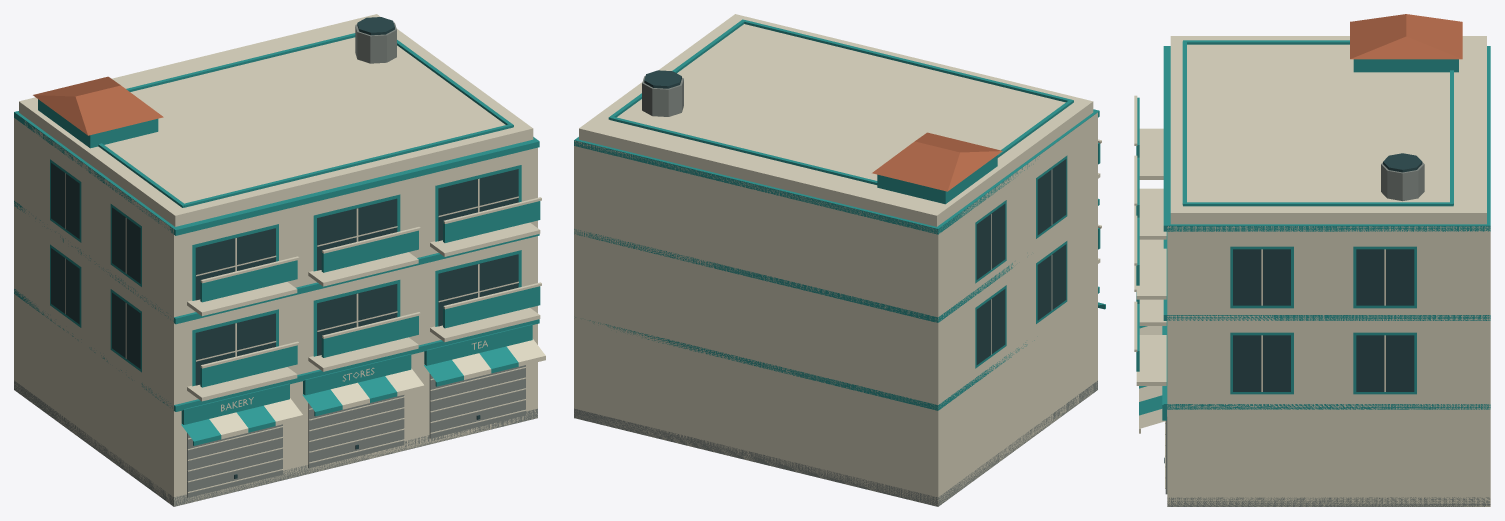
Rendered from KeralaShopRow_A.glb.
3 views of the same model, side by side, from view 1: azimuth 30°, elevation 25°; view 2: azimuth 150°, elevation 25°; view 3: azimuth 270°, elevation 25° (orthographic).
Visible parts, largest first — view 1: KeralaShopRow_A_Warm_Lime_Plaster, KeralaShopRow_A_Kerala_Teal_Trim, KeralaShopRow_A_Deep_Window_Glass, KeralaShopRow_A_Stone_And_Metal, KeralaShopRow_A_Terracotta_Roof; view 2: KeralaShopRow_A_Warm_Lime_Plaster, KeralaShopRow_A_Kerala_Teal_Trim, KeralaShopRow_A_Deep_Window_Glass, KeralaShopRow_A_Stone_And_Metal, KeralaShopRow_A_Terracotta_Roof; view 3: KeralaShopRow_A_Warm_Lime_Plaster, KeralaShopRow_A_Kerala_Teal_Trim, KeralaShopRow_A_Deep_Window_Glass, KeralaShopRow_A_Terracotta_Roof, KeralaShopRow_A_Stone_And_Metal.
Part boxes in pixels (x1=…): KeralaShopRow_A_Warm_Lime_Plaster: x1=14, y1=14, x2=545, y2=505; KeralaShopRow_A_Kerala_Teal_Trim: x1=14, y1=33, x2=540, y2=445; KeralaShopRow_A_Deep_Window_Glass: x1=51, y1=17, x2=518, y2=478; KeralaShopRow_A_Stone_And_Metal: x1=14, y1=22, x2=537, y2=506; KeralaShopRow_A_Terracotta_Roof: x1=33, y1=76, x2=163, y2=135; KeralaShopRow_A_Warm_Lime_Plaster: x1=574, y1=14, x2=1101, y2=505; KeralaShopRow_A_Kerala_Teal_Trim: x1=574, y1=19, x2=1105, y2=410; KeralaShopRow_A_Deep_Window_Glass: x1=644, y1=70, x2=1066, y2=364; KeralaShopRow_A_Stone_And_Metal: x1=574, y1=76, x2=1097, y2=506; KeralaShopRow_A_Terracotta_Roof: x1=872, y1=132, x2=1002, y2=191; KeralaShopRow_A_Warm_Lime_Plaster: x1=1134, y1=36, x2=1490, y2=506; KeralaShopRow_A_Kerala_Teal_Trim: x1=1136, y1=40, x2=1490, y2=420; KeralaShopRow_A_Deep_Window_Glass: x1=1164, y1=153, x2=1422, y2=463; KeralaShopRow_A_Terracotta_Roof: x1=1350, y1=14, x2=1462, y2=59; KeralaShopRow_A_Stone_And_Metal: x1=1165, y1=162, x2=1490, y2=506.
Size of the model in its own units: 12 by 10 by 10.
